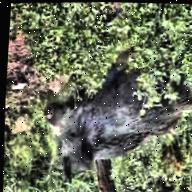boar: (42, 25, 192, 187)
